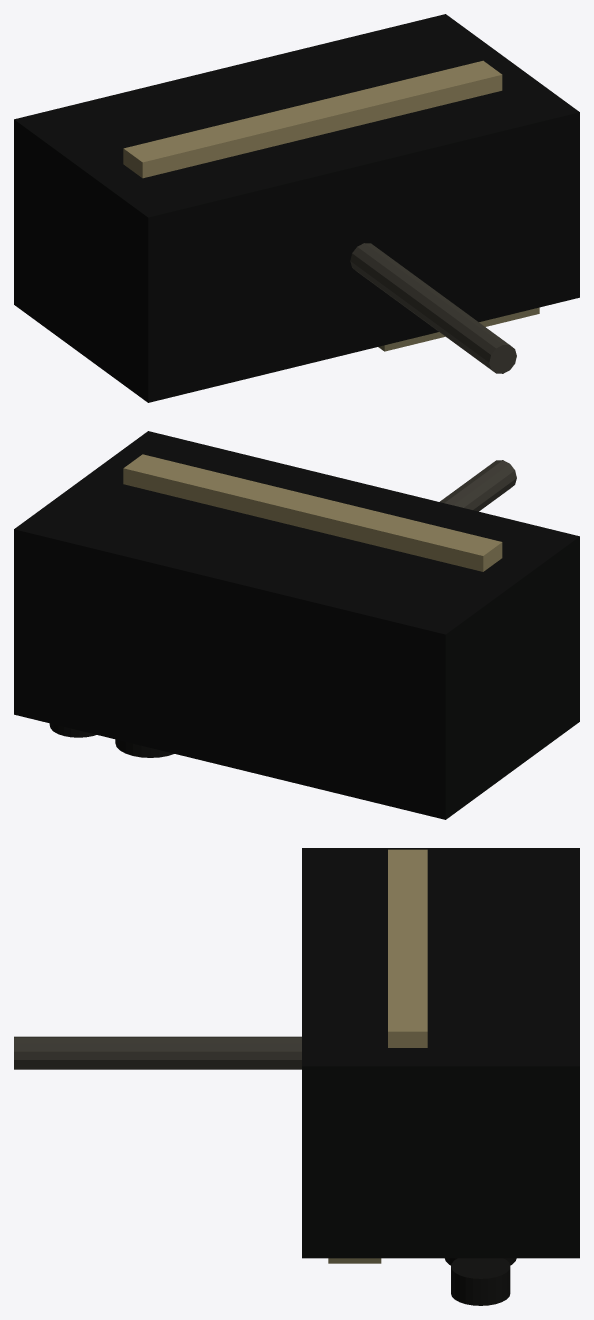
Rendered from shelter_radio_old_detailed.obj.
3 views of the same model, one above another, from view 1: azimuth 30°, elevation 25°; view 2: azimuth 150°, elevation 25°; view 3: azimuth 270°, elevation 25° (orthographic). The views are drawn at different scales.
Visible parts, largest first — view 1: shelter_radio_old_detailed; view 2: shelter_radio_old_detailed; view 3: shelter_radio_old_detailed.
Part boxes in pixels (<box>): shelter_radio_old_detailed: <box>14,14,579,402</box>; shelter_radio_old_detailed: <box>14,431,579,819</box>; shelter_radio_old_detailed: <box>14,848,579,1305</box>.
Bounding box in the file's own units: 0.795 × 0.42 × 0.855.
